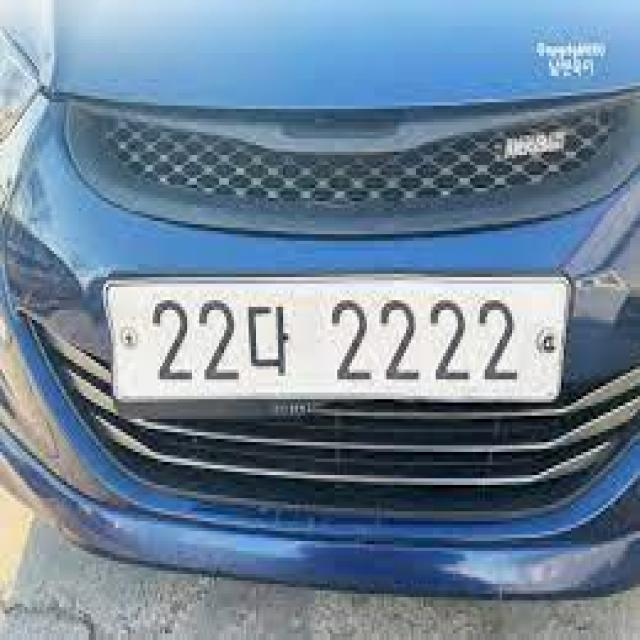illegal_plate: (102, 260, 567, 420)
